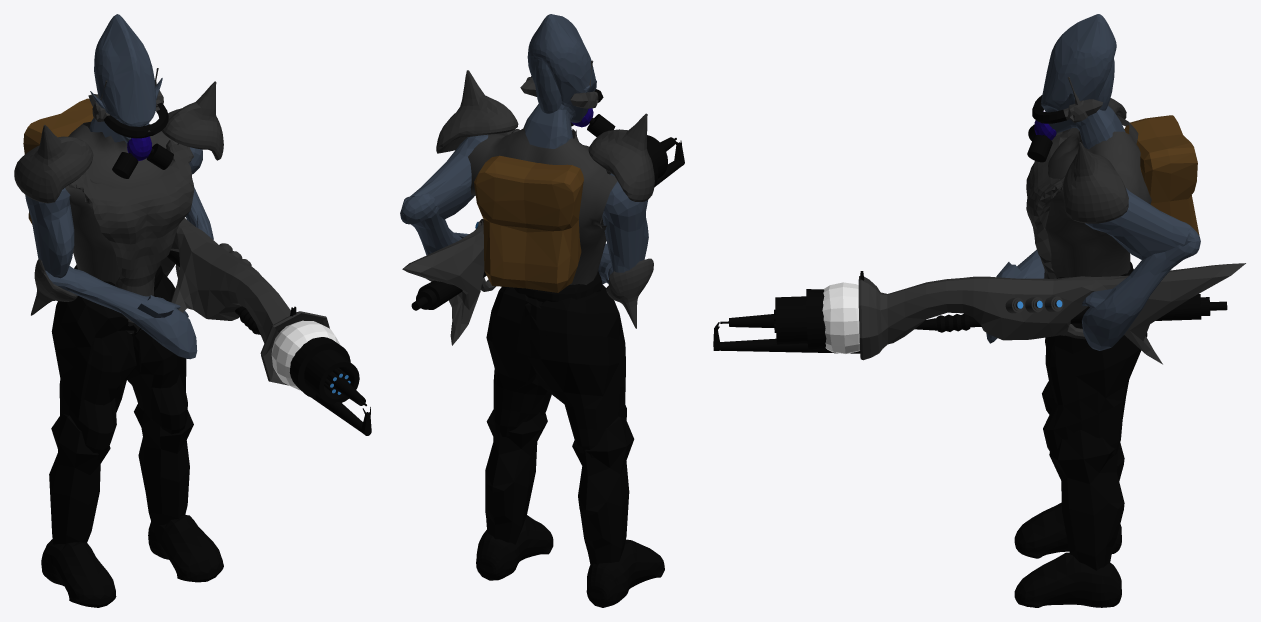
File: militia.dae
3 renders of one model, left to right at view 1: azimuth 30°, elevation 25°; view 2: azimuth 150°, elevation 25°; view 3: azimuth 270°, elevation 25°, orthographic. The views are drawn at different scales.
Visible parts, largest first — view 1: torso, arma, entrepiernad, Cabeza, piernad, entrepiernai, brazod, piernai, pied, piei, antebrazod, bola (+2 smaller); view 2: torso, entrepiernad, Cabeza, entrepiernai, arma, piernad, piernai, pied, antebrazod, piei, antebrazoi, brazoi (+2 smaller); view 3: arma, torso, Cabeza, entrepiernai, piernai, brazoi, piei, antebrazoi, bola, pied, brazod, mira.
Part boxes in pixels (bbox=[...]): torso: bbox=[14, 81, 223, 333]; arma: bbox=[161, 218, 371, 435]; entrepiernad: bbox=[51, 296, 137, 460]; Cabeza: bbox=[88, 14, 173, 178]; piernad: bbox=[49, 413, 110, 544]; entrepiernai: bbox=[127, 272, 187, 434]; brazod: bbox=[45, 266, 197, 359]; piernai: bbox=[134, 404, 193, 527]; pied: bbox=[41, 539, 116, 607]; piei: bbox=[148, 515, 223, 582]; antebrazod: bbox=[25, 188, 74, 278]; bola: bbox=[271, 320, 340, 390]; torso: bbox=[436, 70, 654, 292]; entrepiernad: bbox=[524, 285, 626, 457]; Cabeza: bbox=[520, 14, 615, 148]; entrepiernai: bbox=[486, 286, 551, 437]; arma: bbox=[402, 135, 684, 345]; piernad: bbox=[572, 416, 634, 564]; piernai: bbox=[485, 409, 547, 544]; pied: bbox=[586, 539, 664, 607]; antebrazod: bbox=[602, 173, 648, 272]; piei: bbox=[476, 515, 553, 580]; antebrazoi: bbox=[402, 134, 488, 219]; brazoi: bbox=[400, 193, 468, 255]; arma: bbox=[713, 263, 1245, 364]; torso: bbox=[1026, 98, 1199, 278]; Cabeza: bbox=[1027, 14, 1125, 162]; entrepiernai: bbox=[1043, 323, 1147, 458]; piernai: bbox=[1049, 430, 1124, 570]; brazoi: bbox=[1082, 222, 1200, 350]; piei: bbox=[1014, 552, 1121, 607]; antebrazoi: bbox=[1085, 188, 1199, 259]; bola: bbox=[822, 282, 859, 353]; pied: bbox=[1014, 502, 1121, 558]; brazod: bbox=[986, 249, 1044, 343]; mira: bbox=[860, 271, 1063, 313].
Bounding box in the file's own units: 8.72 × 19.82 × 23.24.
